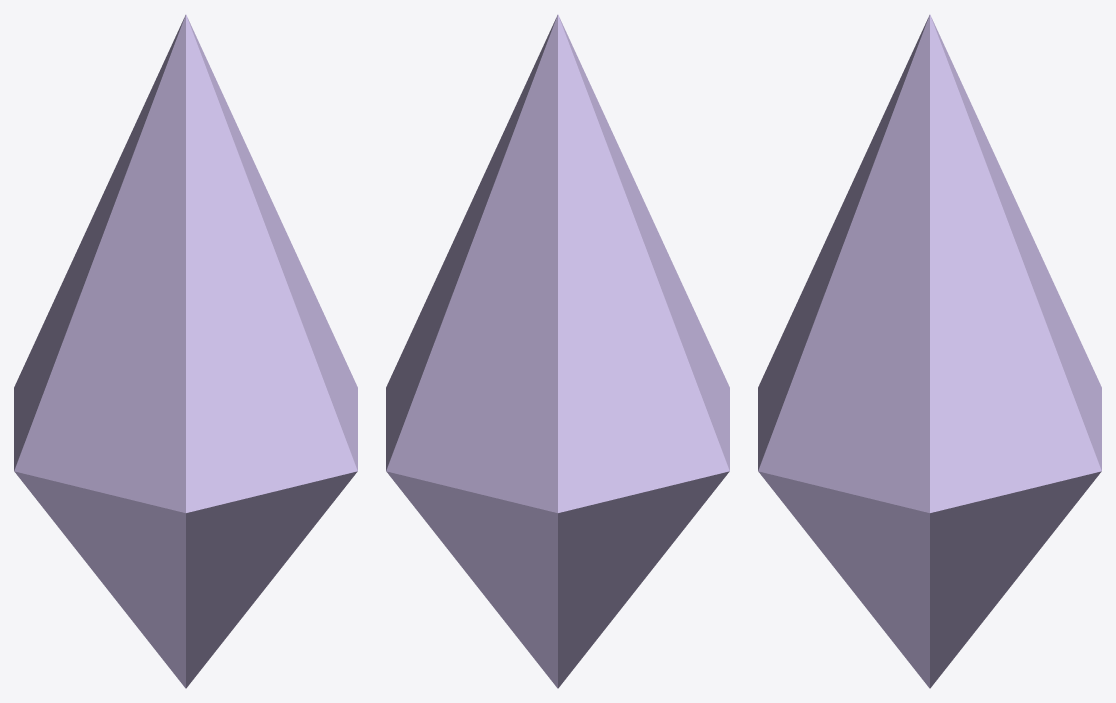
File: nexus_crystal.obj
The picture shows the model from 3 angles, left to right: view 1: azimuth 30°, elevation 25°; view 2: azimuth 150°, elevation 25°; view 3: azimuth 270°, elevation 25°; orthographic projection.
Bounding box in the file's own units: 0.433 × 0.8125 × 0.375.
